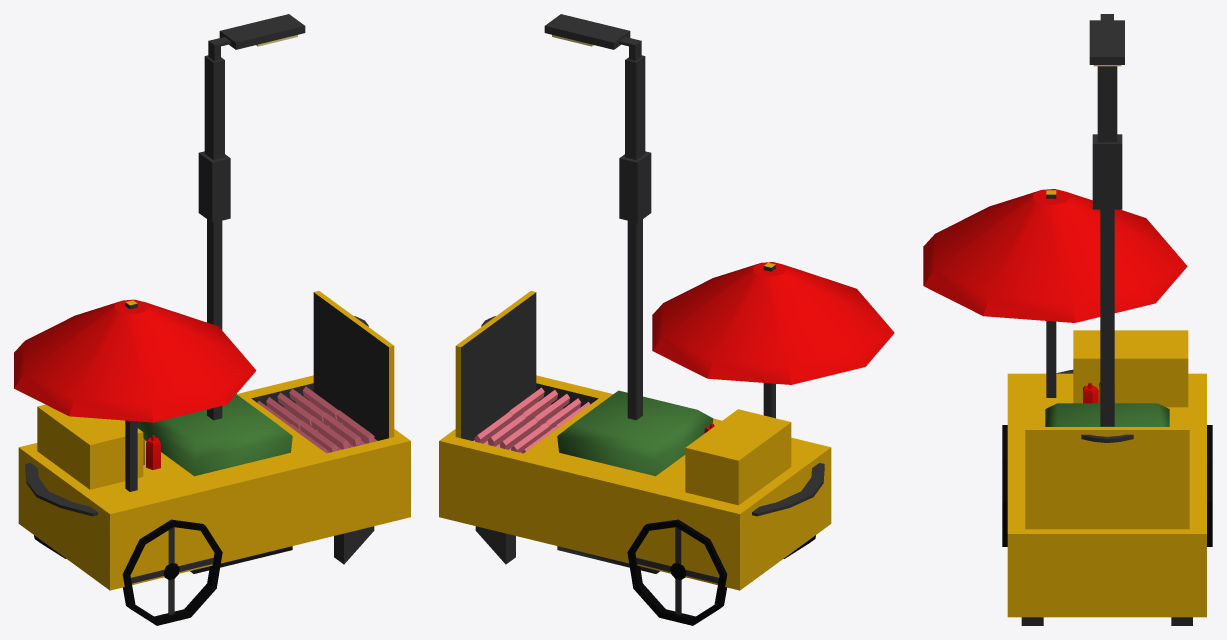
The picture shows the model from 3 angles, left to right: view 1: azimuth 30°, elevation 25°; view 2: azimuth 150°, elevation 25°; view 3: azimuth 270°, elevation 25°; orthographic projection. The views are drawn at different scales.
Parts seen in each view (by area): view 1: object_hotdogstand, object_streetlamp, object_bush; view 2: object_hotdogstand, object_streetlamp, object_bush; view 3: object_hotdogstand, object_streetlamp, object_bush.
Boxes of the visible parts, x1,y1,x2,y2 form: object_hotdogstand: (14,291,410,625); object_streetlamp: (198,14,305,420); object_bush: (137,394,292,573); object_hotdogstand: (439,262,894,625); object_streetlamp: (544,14,651,420); object_bush: (557,390,713,573); object_hotdogstand: (923,189,1212,625); object_streetlamp: (1089,14,1124,426); object_bush: (1045,403,1169,426).
Size of the model in its own units: 739 by 1013 by 464.
